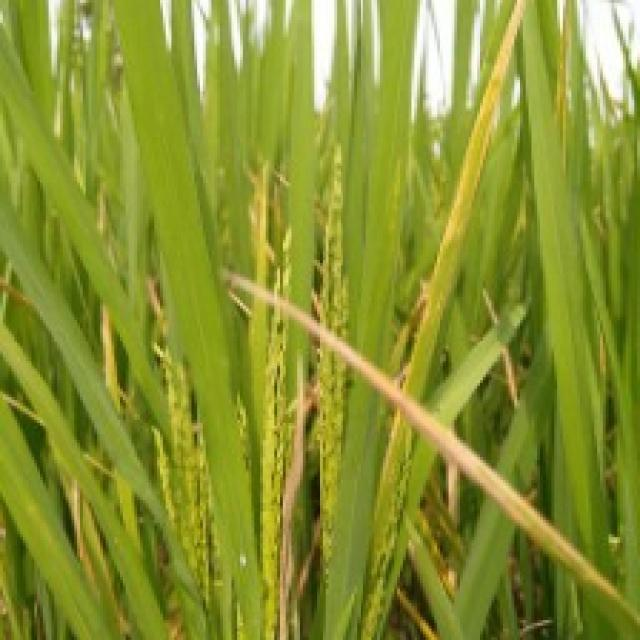Rice___Bacterial_Leaf_Blight: (324, 0, 530, 637)
